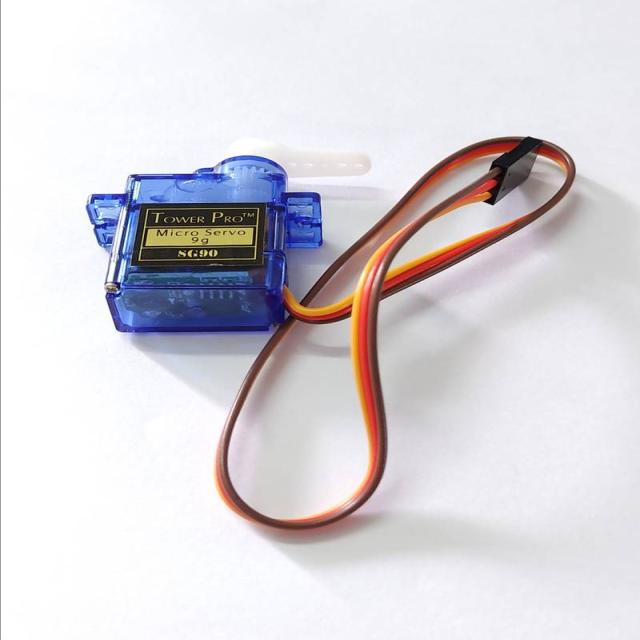motor: (83, 135, 370, 376)
